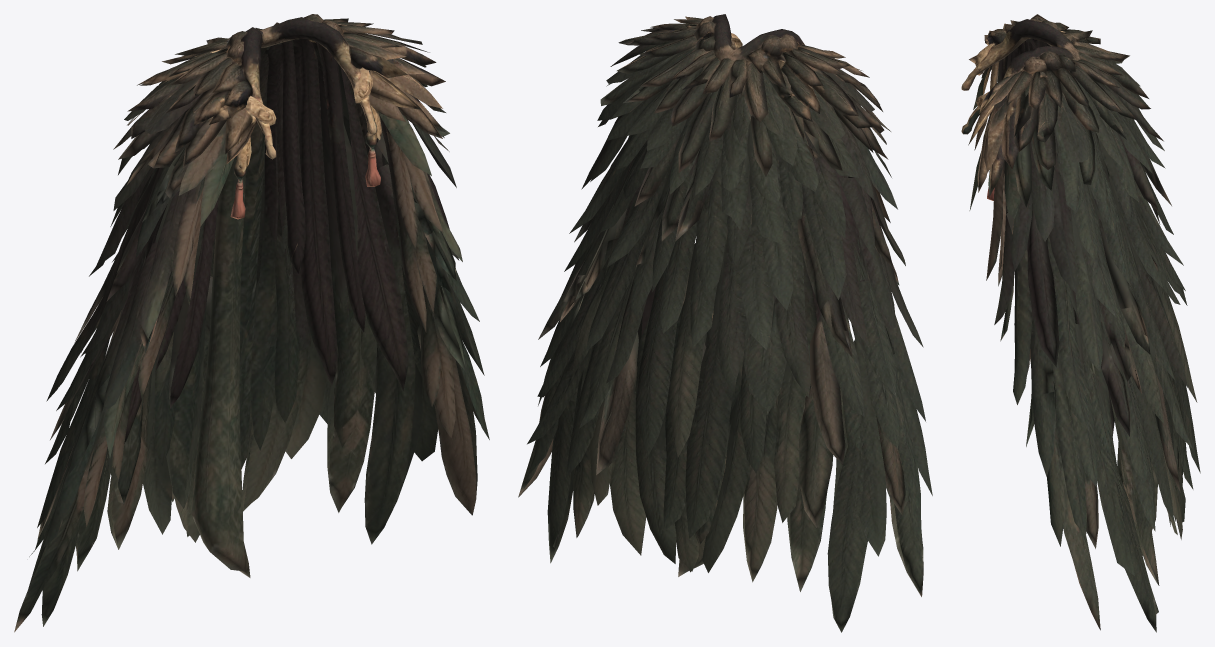
The model's file is son_tinh_v2_mantle_mesh.fbx.
3 views of the same model, side by side, from view 1: azimuth 30°, elevation 25°; view 2: azimuth 150°, elevation 25°; view 3: azimuth 270°, elevation 25° (orthographic). The views are drawn at different scales.
Visible parts, largest first — view 1: Mesh_0; view 2: Mesh_0; view 3: Mesh_0.
Part boxes in pixels (box(x1,y1,x2,y2)): Mesh_0: box(14, 14, 489, 632); Mesh_0: box(518, 14, 932, 632); Mesh_0: box(961, 14, 1200, 632).
Bounding box in the file's own units: 79.56 × 100 × 40.89.
Materials: 1 (1 with a texture image).
